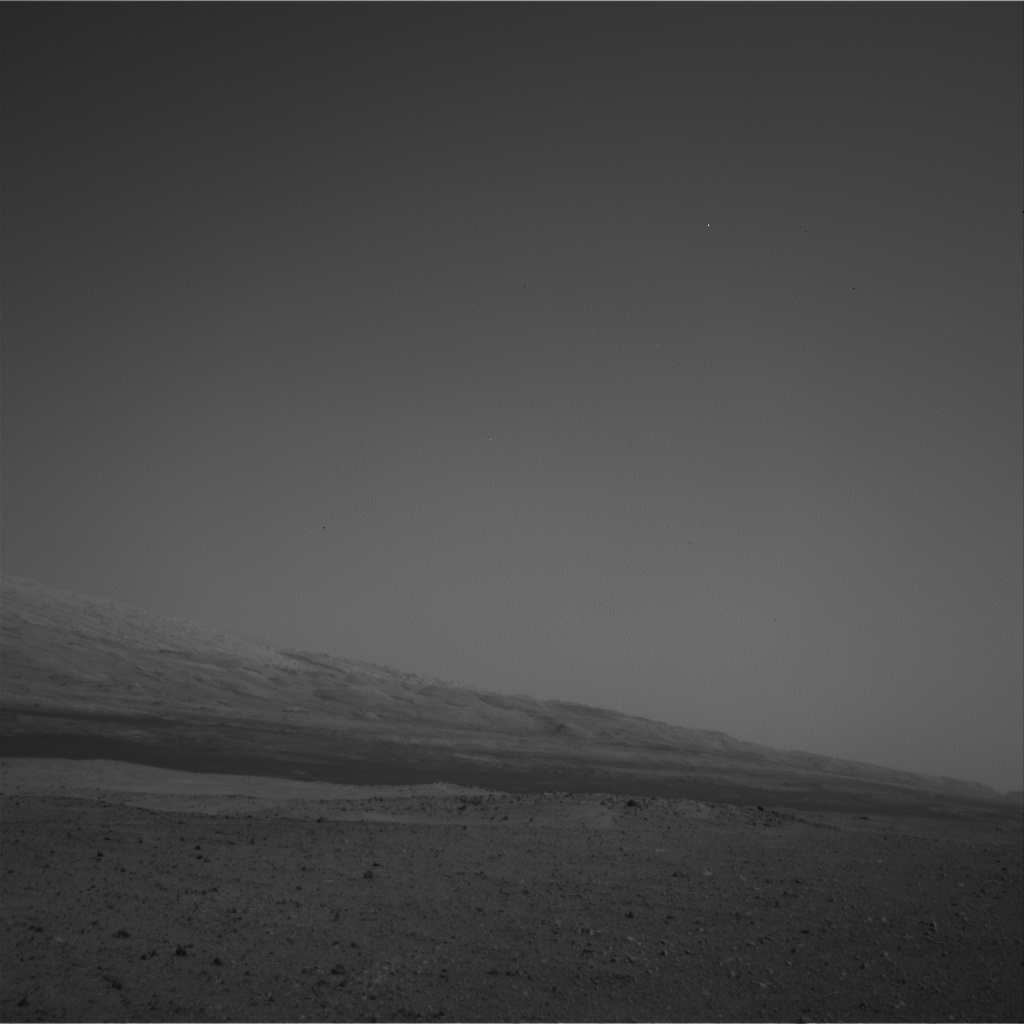soil: (4, 816, 1019, 1022)
